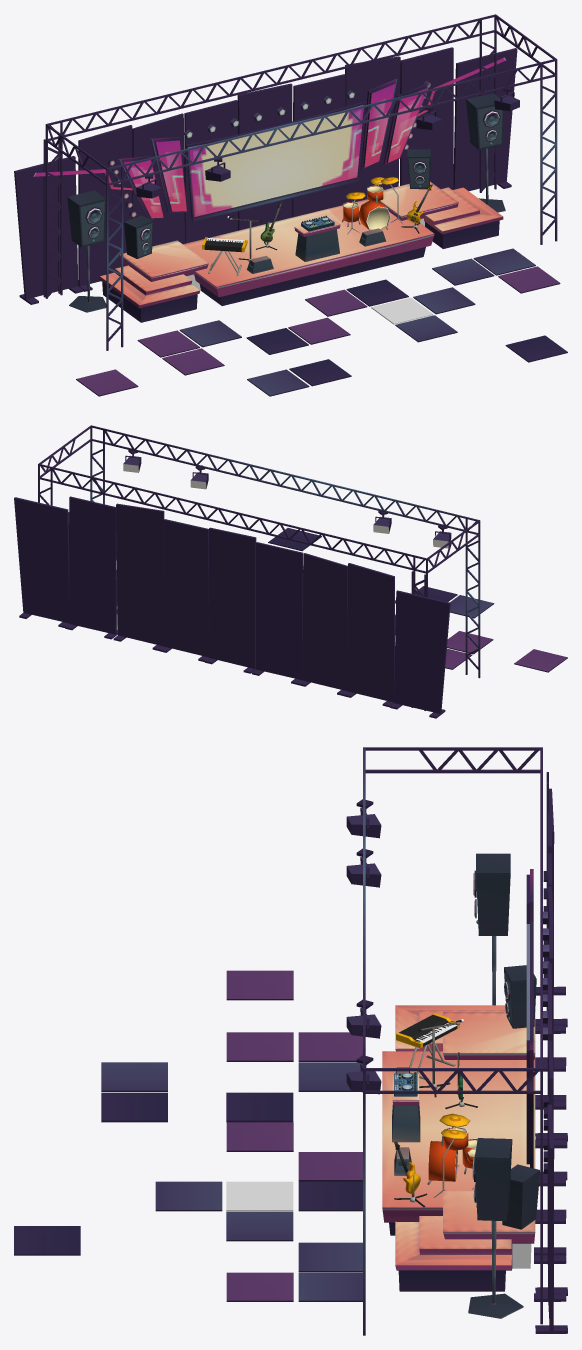
Rendered from concert_stage.glb.
3 renders of one model, top to bottom at view 1: azimuth 30°, elevation 25°; view 2: azimuth 150°, elevation 25°; view 3: azimuth 270°, elevation 25°, orthographic. The views are drawn at different scales.
Visible parts, largest first — view 1: Cube_056, Cube_094, Cube_049, Cube_076, Cube_050, Cube_075, Cube_035, Cube_036, Cube_079, Cube_078, Cube_074, Cube_073 (+46 smaller); view 2: Cube_074, Cube_079, Cube_075, Cube_078, Cube_076, Cube_073, Cube_049, Cube_050, Cube_077, Cube_036, Cube_035, Cube_041 (+7 smaller); view 3: Cube_094, Cube_085, Cylinder_008, Cube_091, Cylinder, Cube_087, MUSICSTORE_LOD1_003, Cube_084, Cube_022, Cube_059, Cube_060, Cube_062 (+29 smaller).
Boxes of the visible parts, x1,y1,x2,y2 form: Cube_056: (187,105,363,217); Cube_094: (183,199,434,297); Cube_049: (14,156,83,304); Cube_076: (78,125,132,291); Cube_050: (453,48,517,191); Cube_075: (400,47,453,189); Cube_035: (108,59,555,185); Cube_036: (47,14,495,140); Cube_079: (237,83,292,230); Cube_078: (184,100,237,243); Cube_074: (345,56,400,202); Cube_073: (292,74,345,217); Cube_074: (113,503,164,650); Cube_079: (205,527,256,673); Cube_075: (65,496,117,639); Cube_078: (252,542,303,684); Cube_076: (344,563,394,707); Cube_073: (159,519,209,662); Cube_049: (390,590,450,718); Cube_050: (14,497,69,627); Cube_077: (298,553,347,695); Cube_036: (39,464,426,573); Cube_035: (91,425,478,534); Cube_041: (465,517,480,678); Cube_094: (382,1051,535,1222); Cube_085: (395,1216,512,1270); Cylinder_008: (468,1138,523,1318); Cube_091: (443,1012,535,1059); Cylinder: (473,853,510,1005); Cube_087: (443,1191,535,1243); MUSICSTORE_LOD1_003: (427,1113,477,1197); Cube_084: (398,1270,505,1291); Cube_022: (365,747,540,773); Cube_059: (226,1211,293,1241); Cube_060: (226,1181,293,1211); Cube_062: (226,1092,293,1122).
Bounding box in the file's own units: 5.07 × 1.67 × 3.14.
17 materials, 15 textured.
